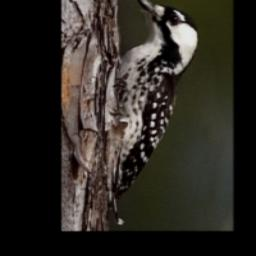Woodpecker: (103, 0, 203, 199)
